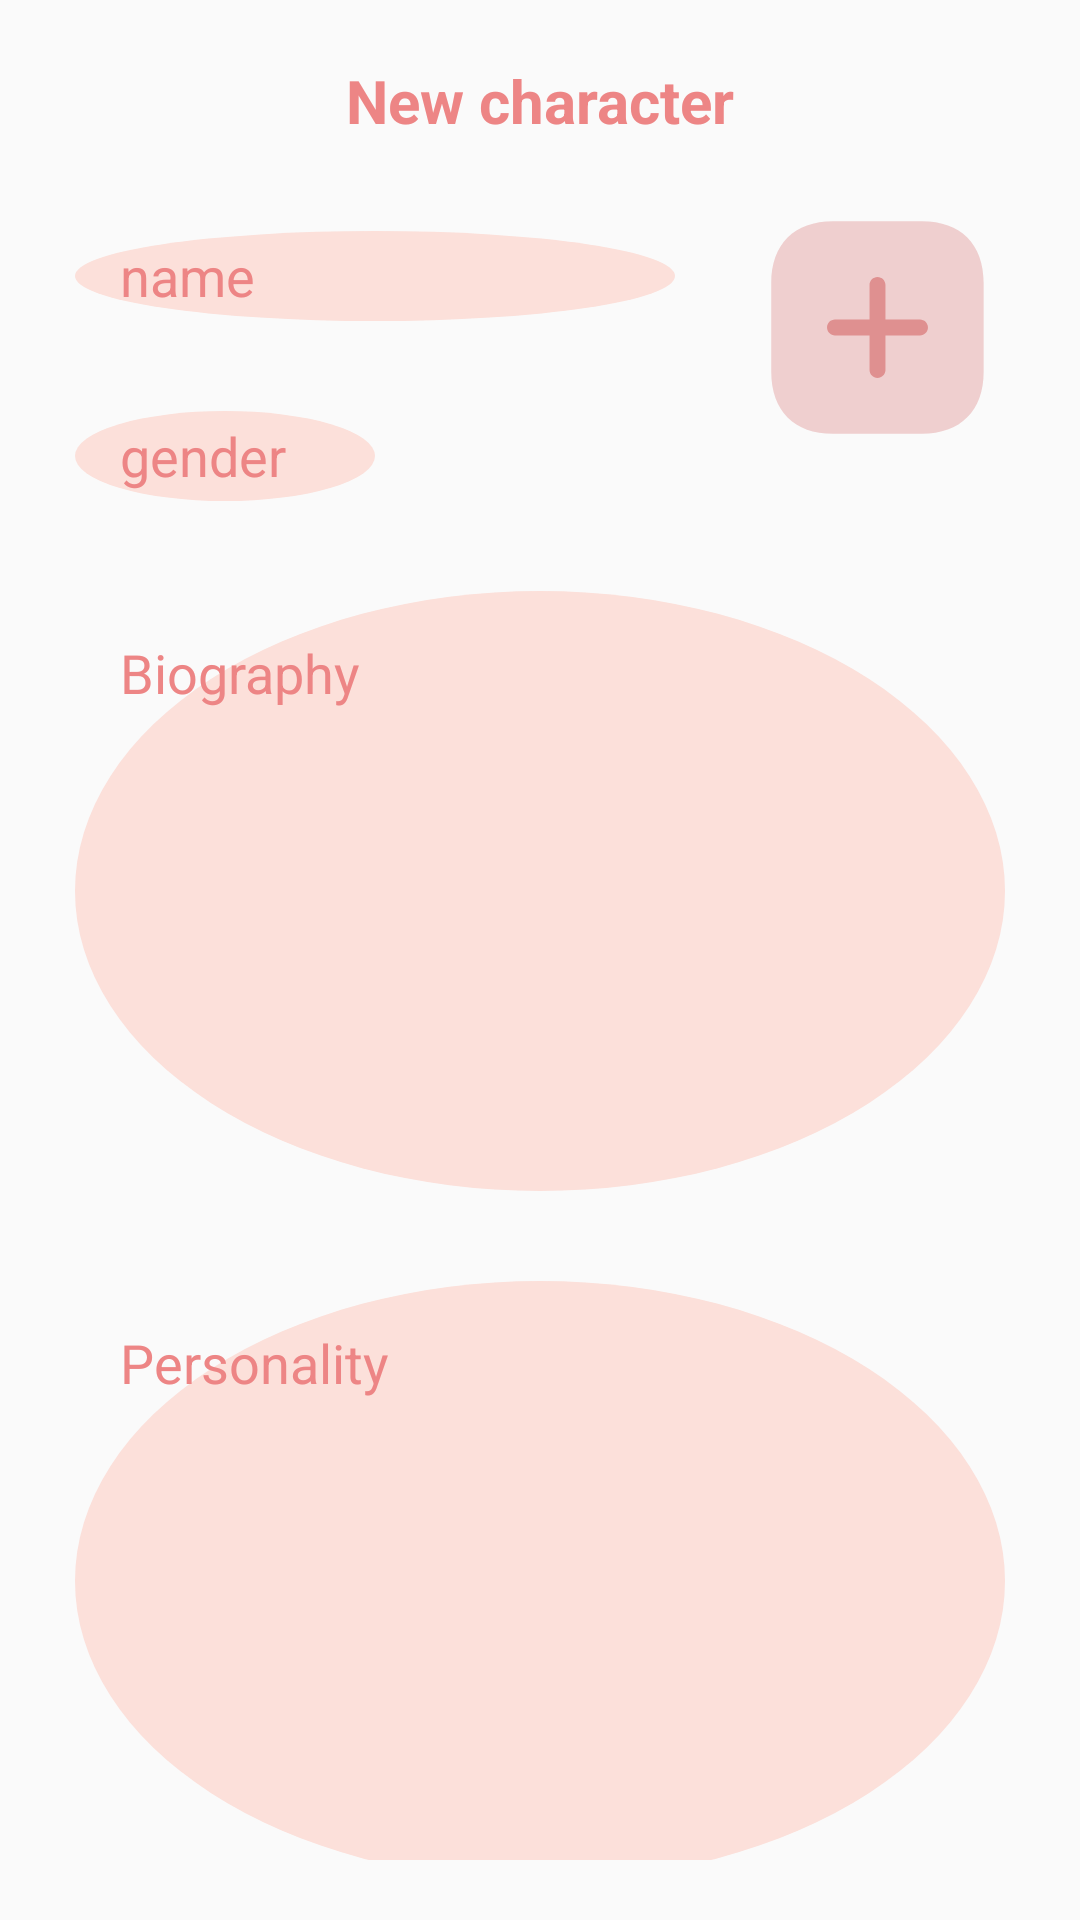

Screen size 1080×1920. Icon name, then its box in pixels as rect(x1, y1, x2, y2):
add: rect(771, 221, 984, 434)
